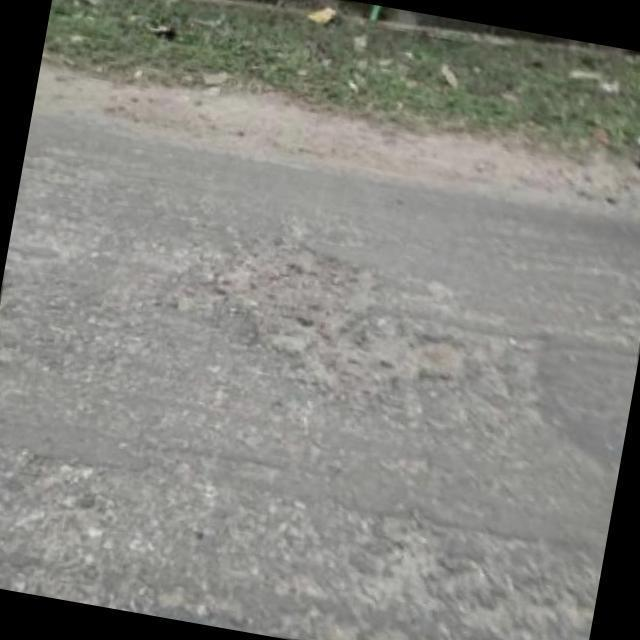Pothole: (217, 248, 451, 389)
